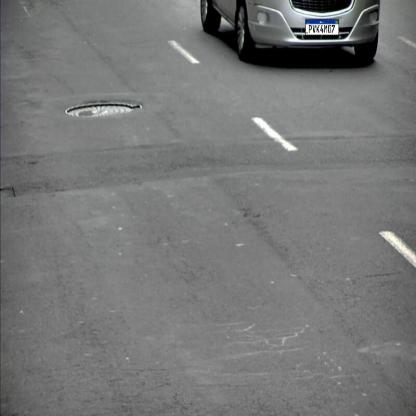PlacaM: (305, 20, 339, 36)
